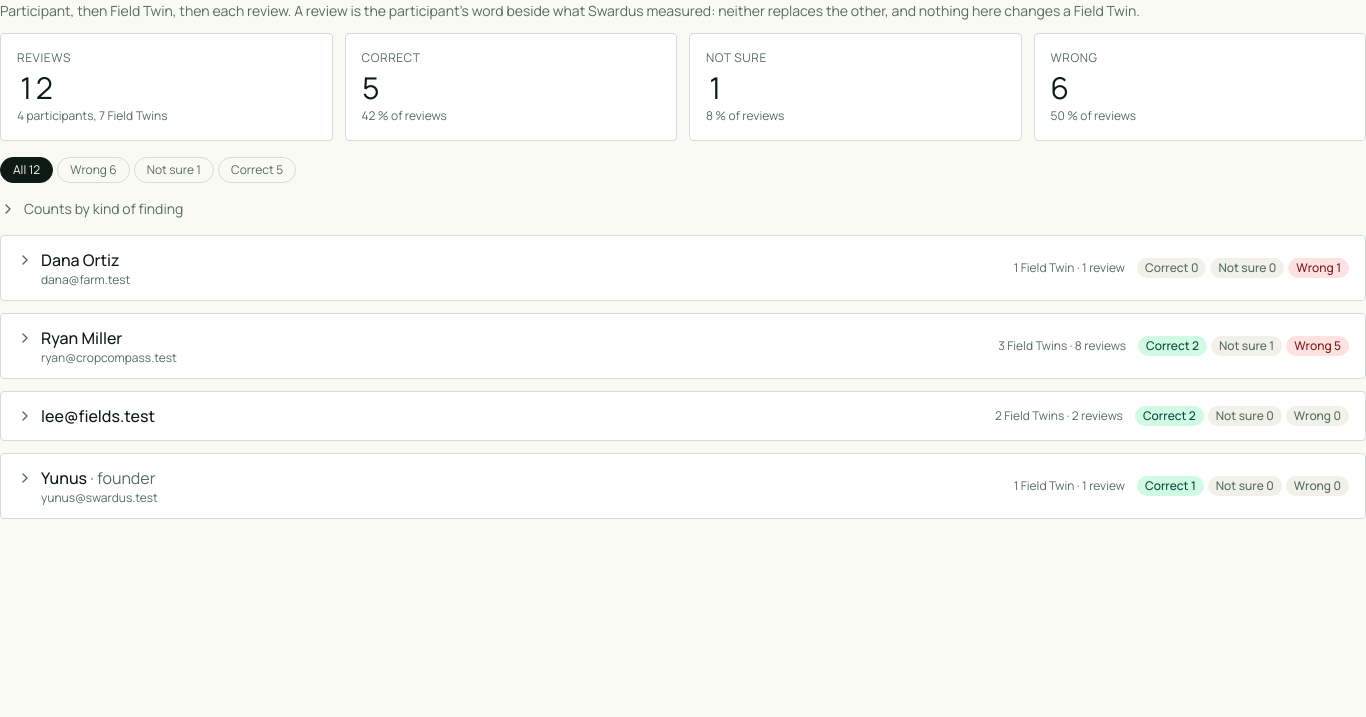
Test: from a review to the Field Twin › without the participant's agreement there is nothing to click: the row says why and offers an email to them
Click the button "Dana Ortiz": (80, 260) [1,236,1365,300]
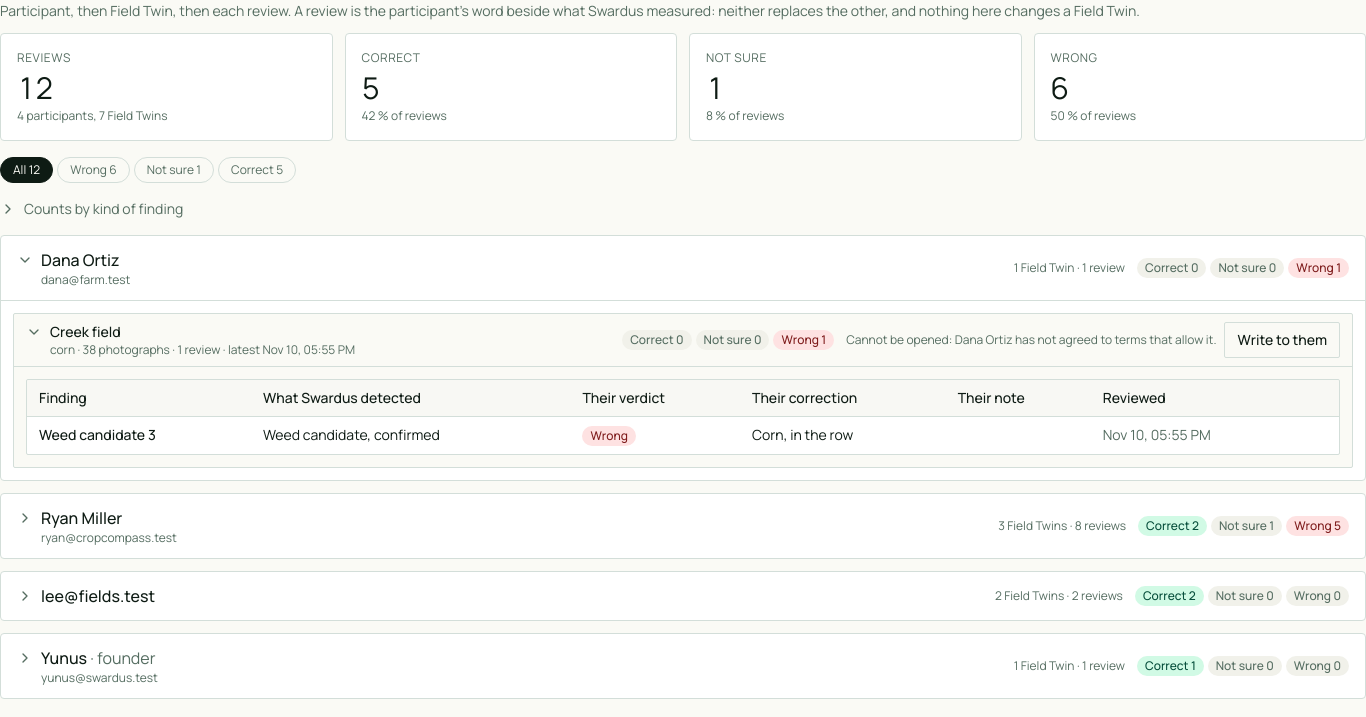
Result: the list item "Creek field" shows "Cannot be opened: Dana Ortiz has not agreed to terms that allow it." at [846,331,1216,348]
Click the button "lee@fields.test": (98, 596) [1,572,1365,620]
(page scrolled)
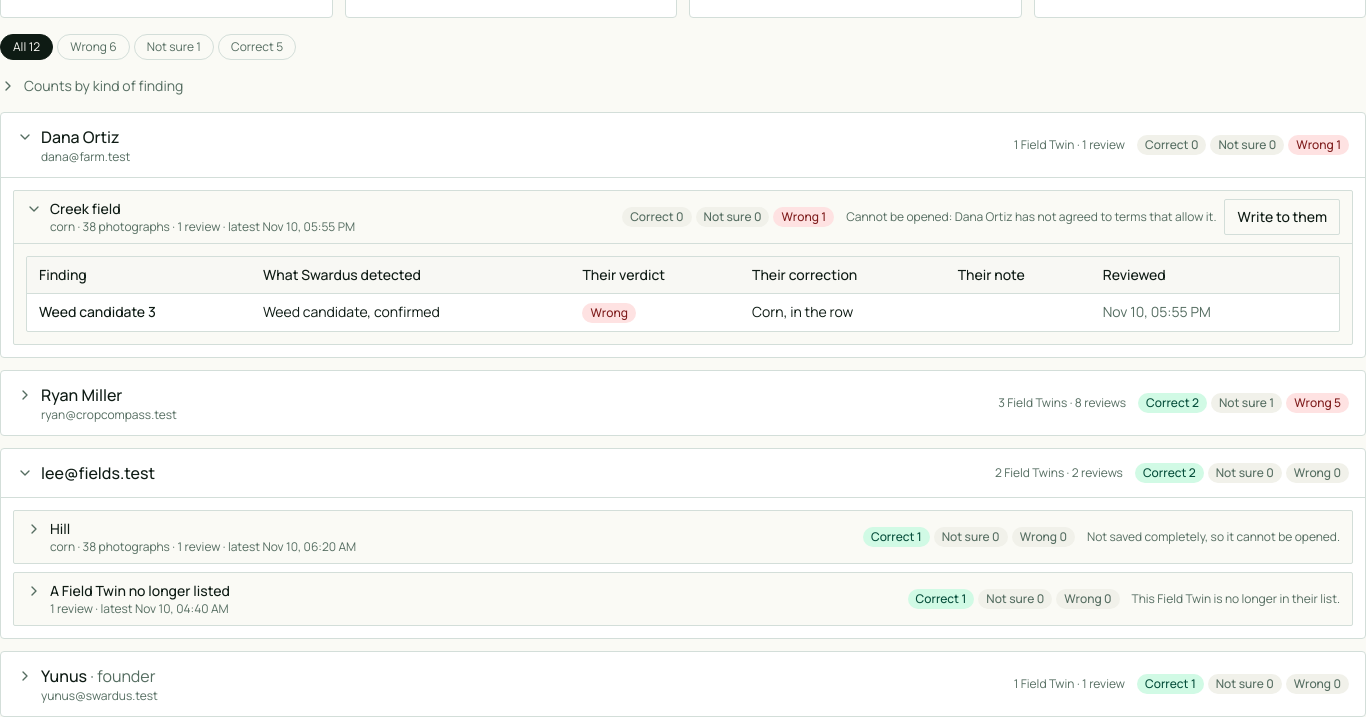
Result: the list item "Hill" shows "Not saved completely, so it cannot be opened." at [1087,528,1340,545]
Result: the list item "A Field Twin no longer listed" shows "This Field Twin is no longer in their list." at [1132,590,1340,607]
